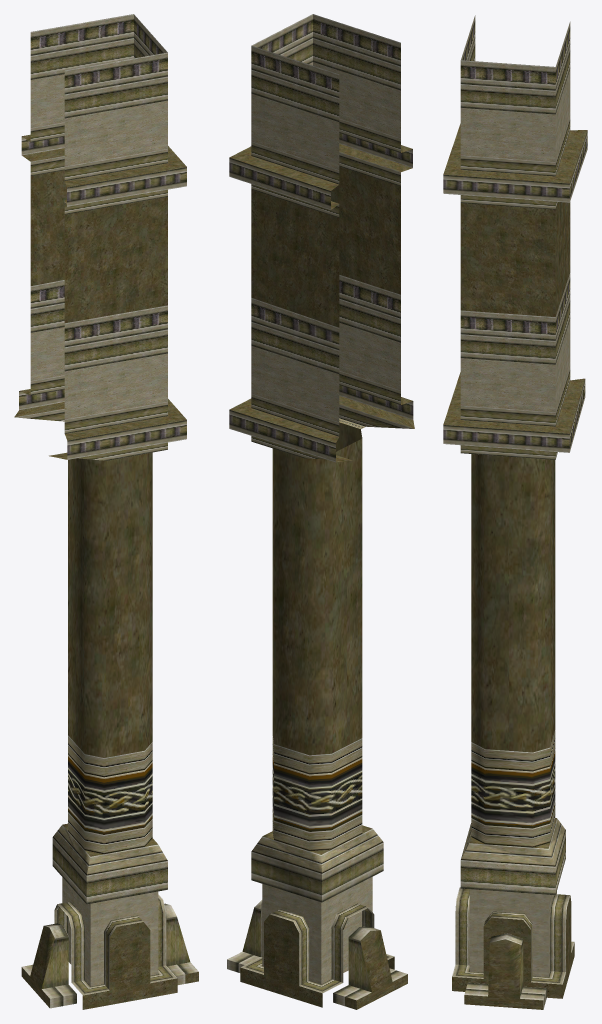
File: CH09_SMAUG_PLAYSURFACE_LAIR62.fbx
3 renders of one model, left to right at view 1: azimuth 30°, elevation 25°; view 2: azimuth 150°, elevation 25°; view 3: azimuth 270°, elevation 25°, orthographic.
Parts seen in each view (by area): view 1: CH09_SMAUG_PLAYSURFACE_LAIR62; view 2: CH09_SMAUG_PLAYSURFACE_LAIR62; view 3: CH09_SMAUG_PLAYSURFACE_LAIR62.
Boxes of the visible parts, left/top/right/bottom form: CH09_SMAUG_PLAYSURFACE_LAIR62: left=14, top=14, right=198, bottom=1009; CH09_SMAUG_PLAYSURFACE_LAIR62: left=227, top=14, right=414, bottom=1009; CH09_SMAUG_PLAYSURFACE_LAIR62: left=443, top=15, right=587, bottom=1009.
Size of the model in its own units: 47096 by 271667 by 38335.
Materials: 7 (7 with a texture image).
